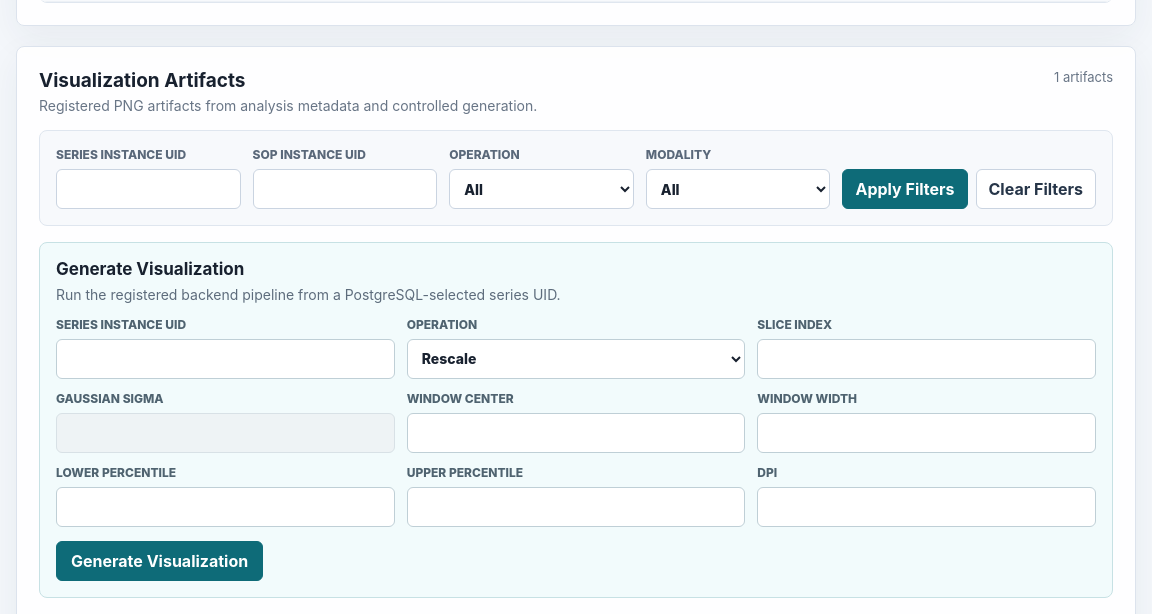
Test: VisualizationArtifactWorkbench › controlled backend validation errors are displayed safely and preserve state
(page scrolled)
Type "1.2.826.0.1.series" into the 2nd field labelled "Series Instance UID" at (225, 358), box 56,338 -> 395,378
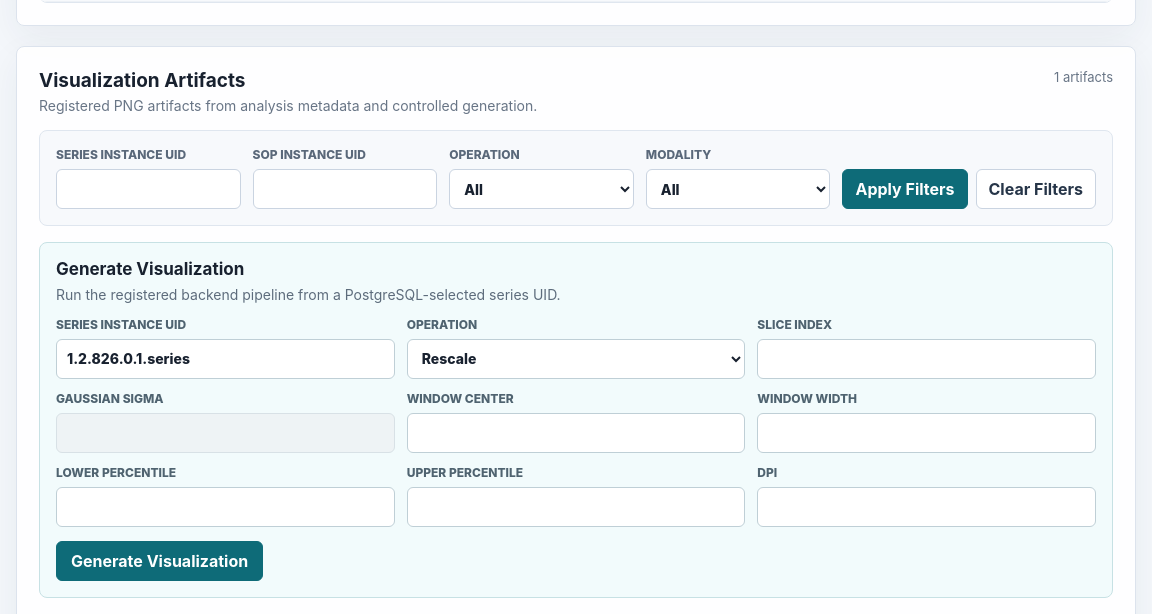
Click the button "Generate Visualization" at (160, 560), box 56,540 -> 263,580
(page scrolled)
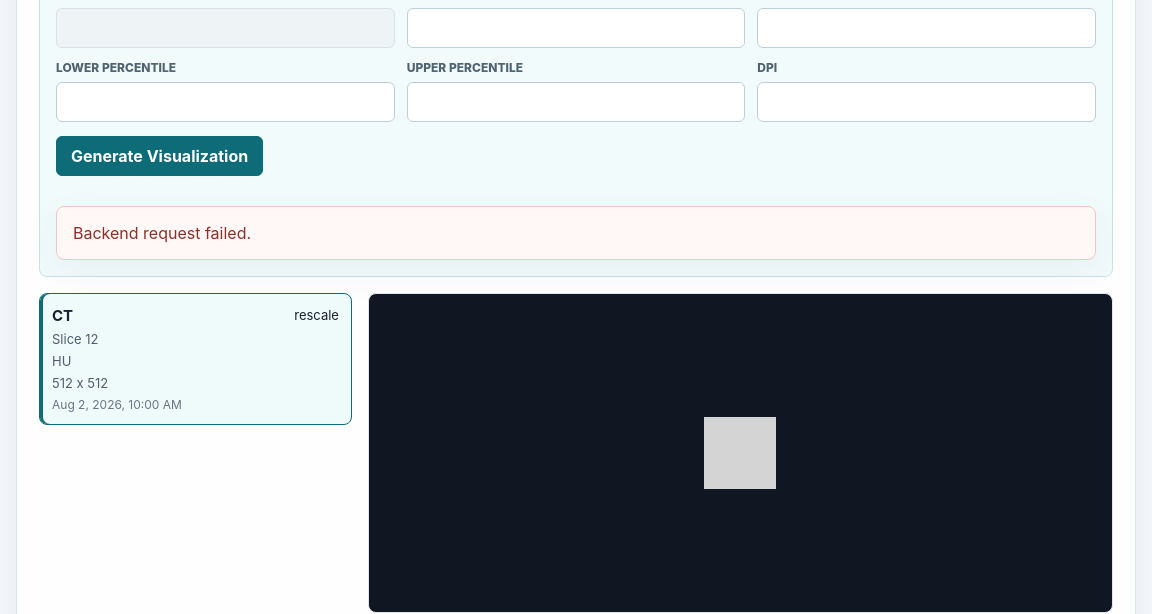
Result: the text "Backend request failed." is shown at 56,206 -> 1096,260
